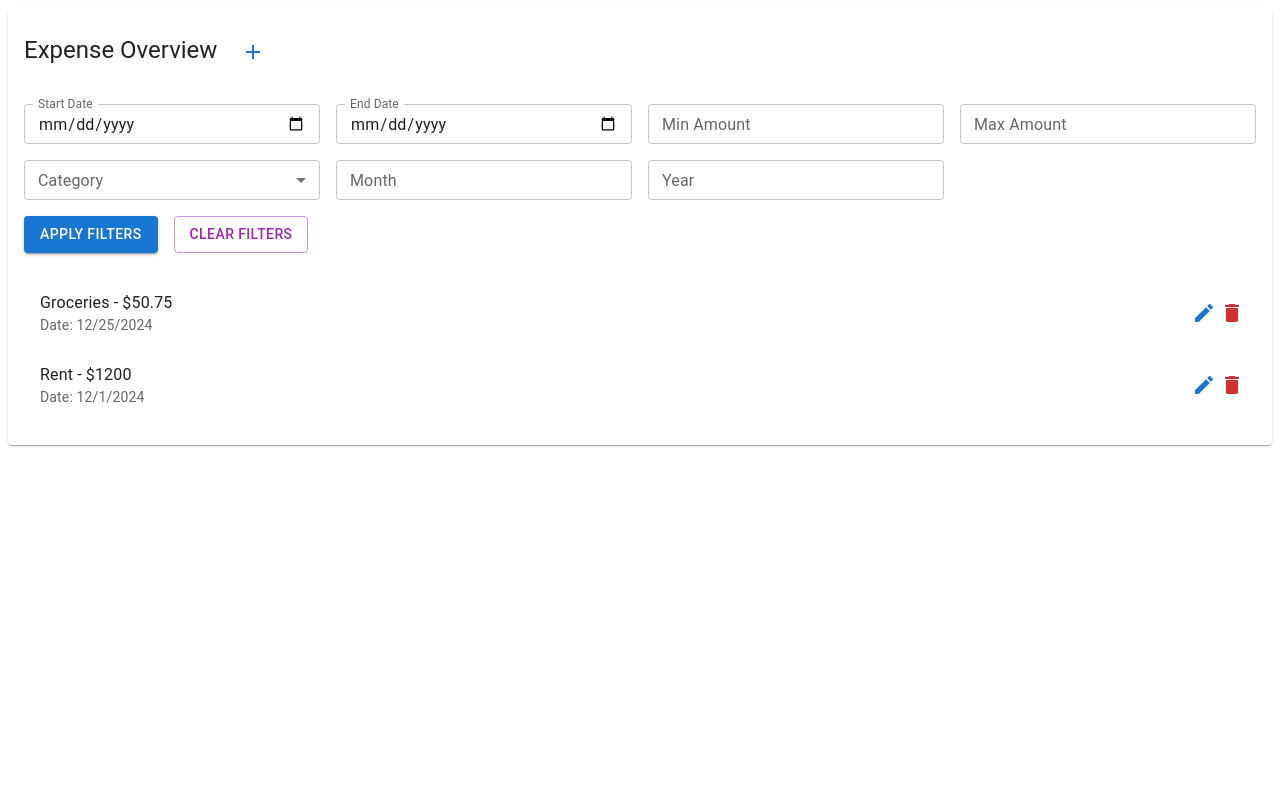
Scenario: ExpenseOverview Component › opens the modal for adding a new expense
Note: Click the Add button
Click the button named "add expense": (253, 52) top-left (233, 32), bottom-right (273, 72)
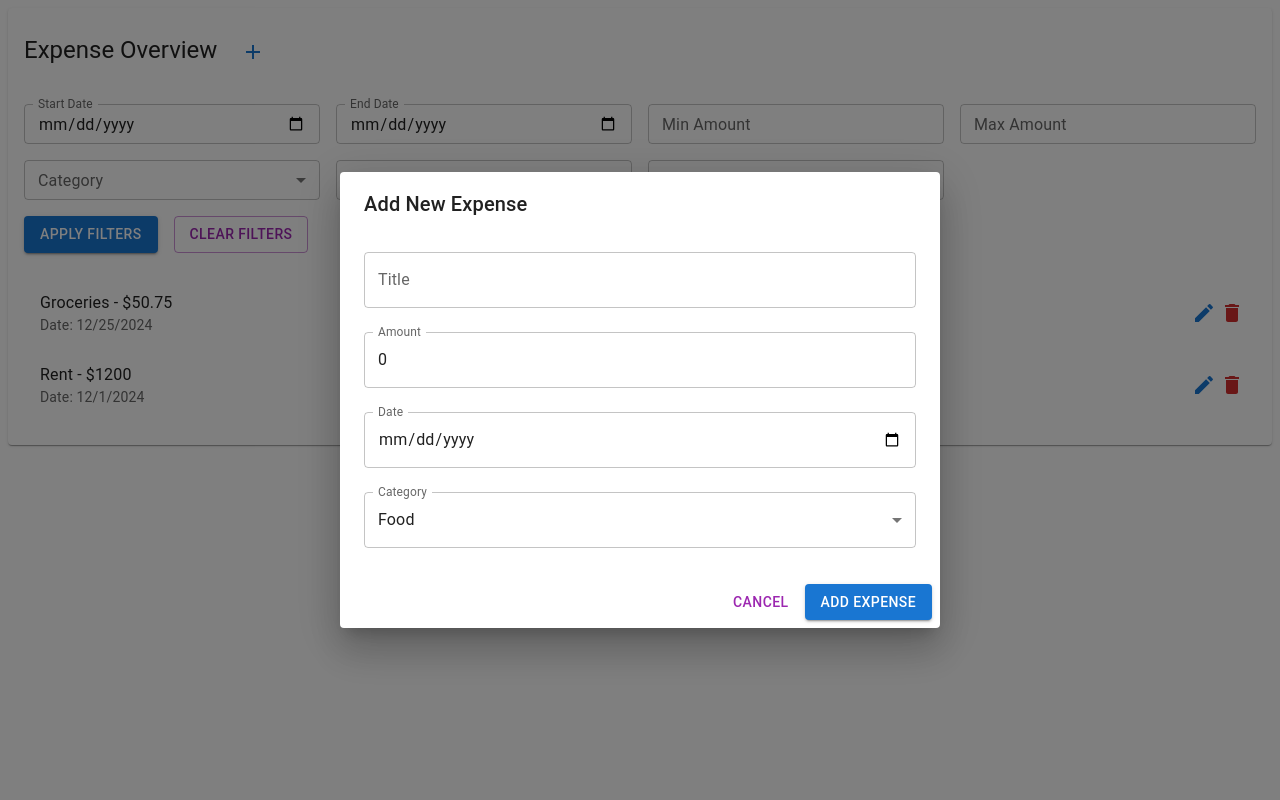
Result: the heading "Add New Expense" is shown at top-left (364, 192), bottom-right (528, 216)
